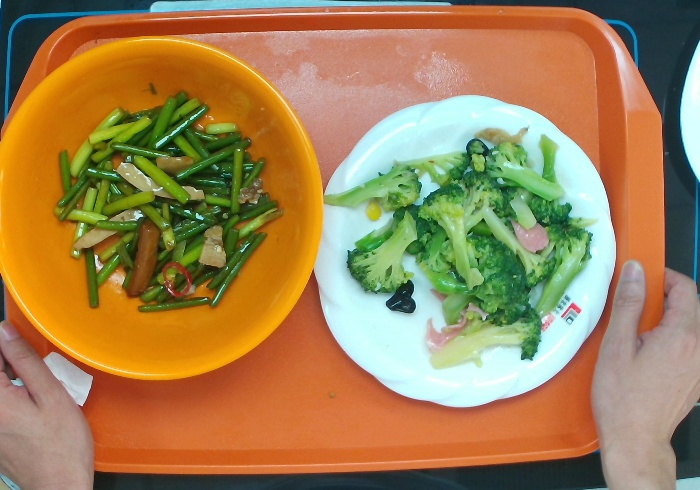ZNLD-Hua_Bian_Wan: (312, 93, 617, 409)
ZNLD-Ju_Se_Tang_Wan: (1, 34, 324, 382)
